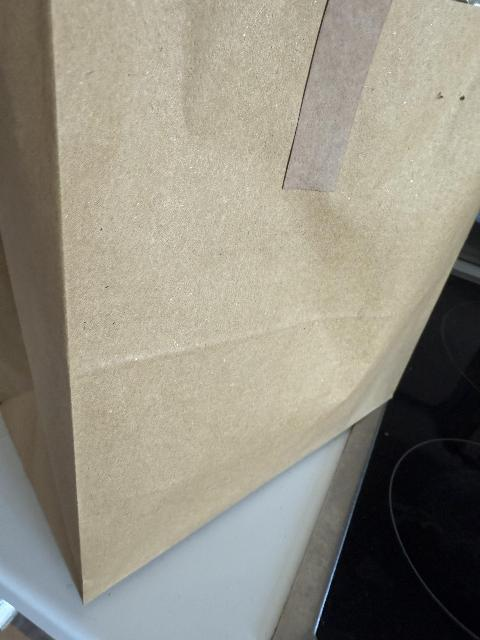Kagit: (0, 0, 480, 605)
